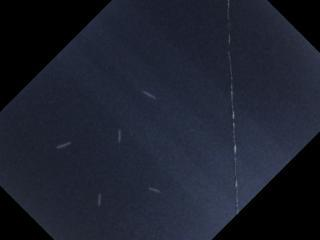crack: (224, 0, 241, 214)
scratch: (139, 87, 161, 104), (54, 138, 76, 153), (93, 189, 105, 208), (148, 186, 163, 196), (117, 128, 123, 144)
